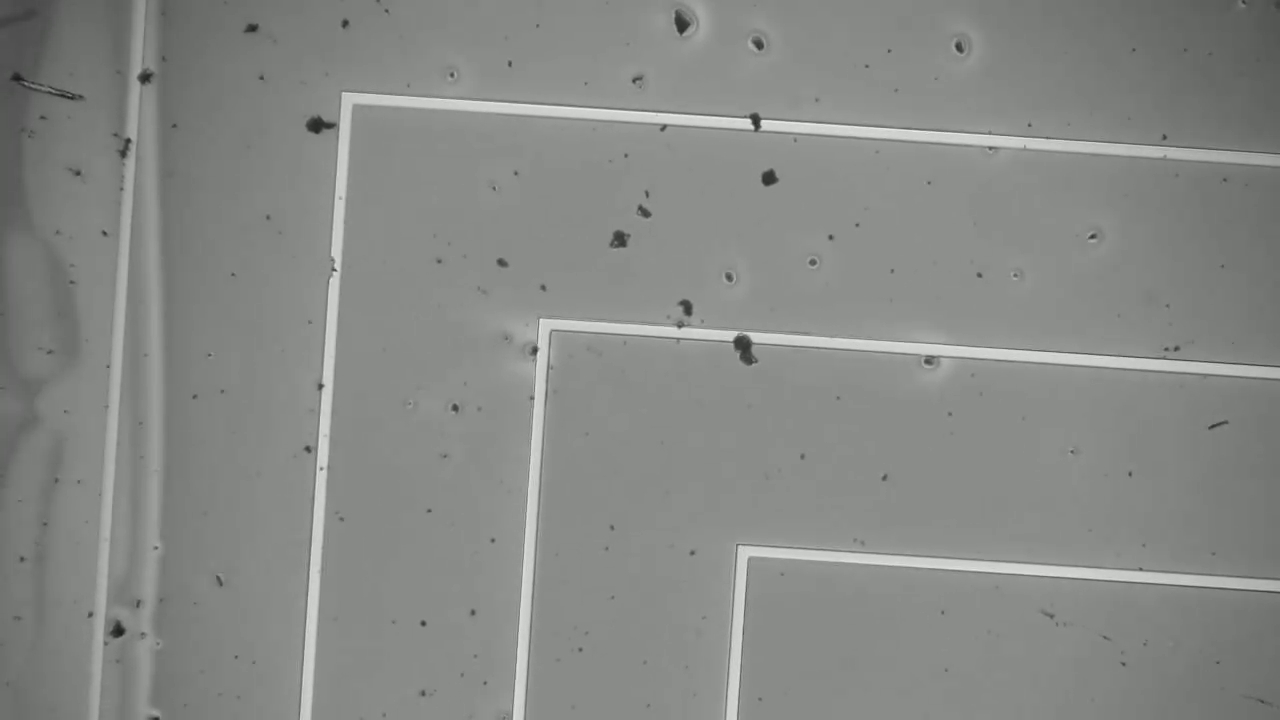edge_bite: (315, 244, 355, 288)
stains_enbedded: (725, 316, 774, 374), (528, 338, 557, 368), (740, 108, 772, 134)
